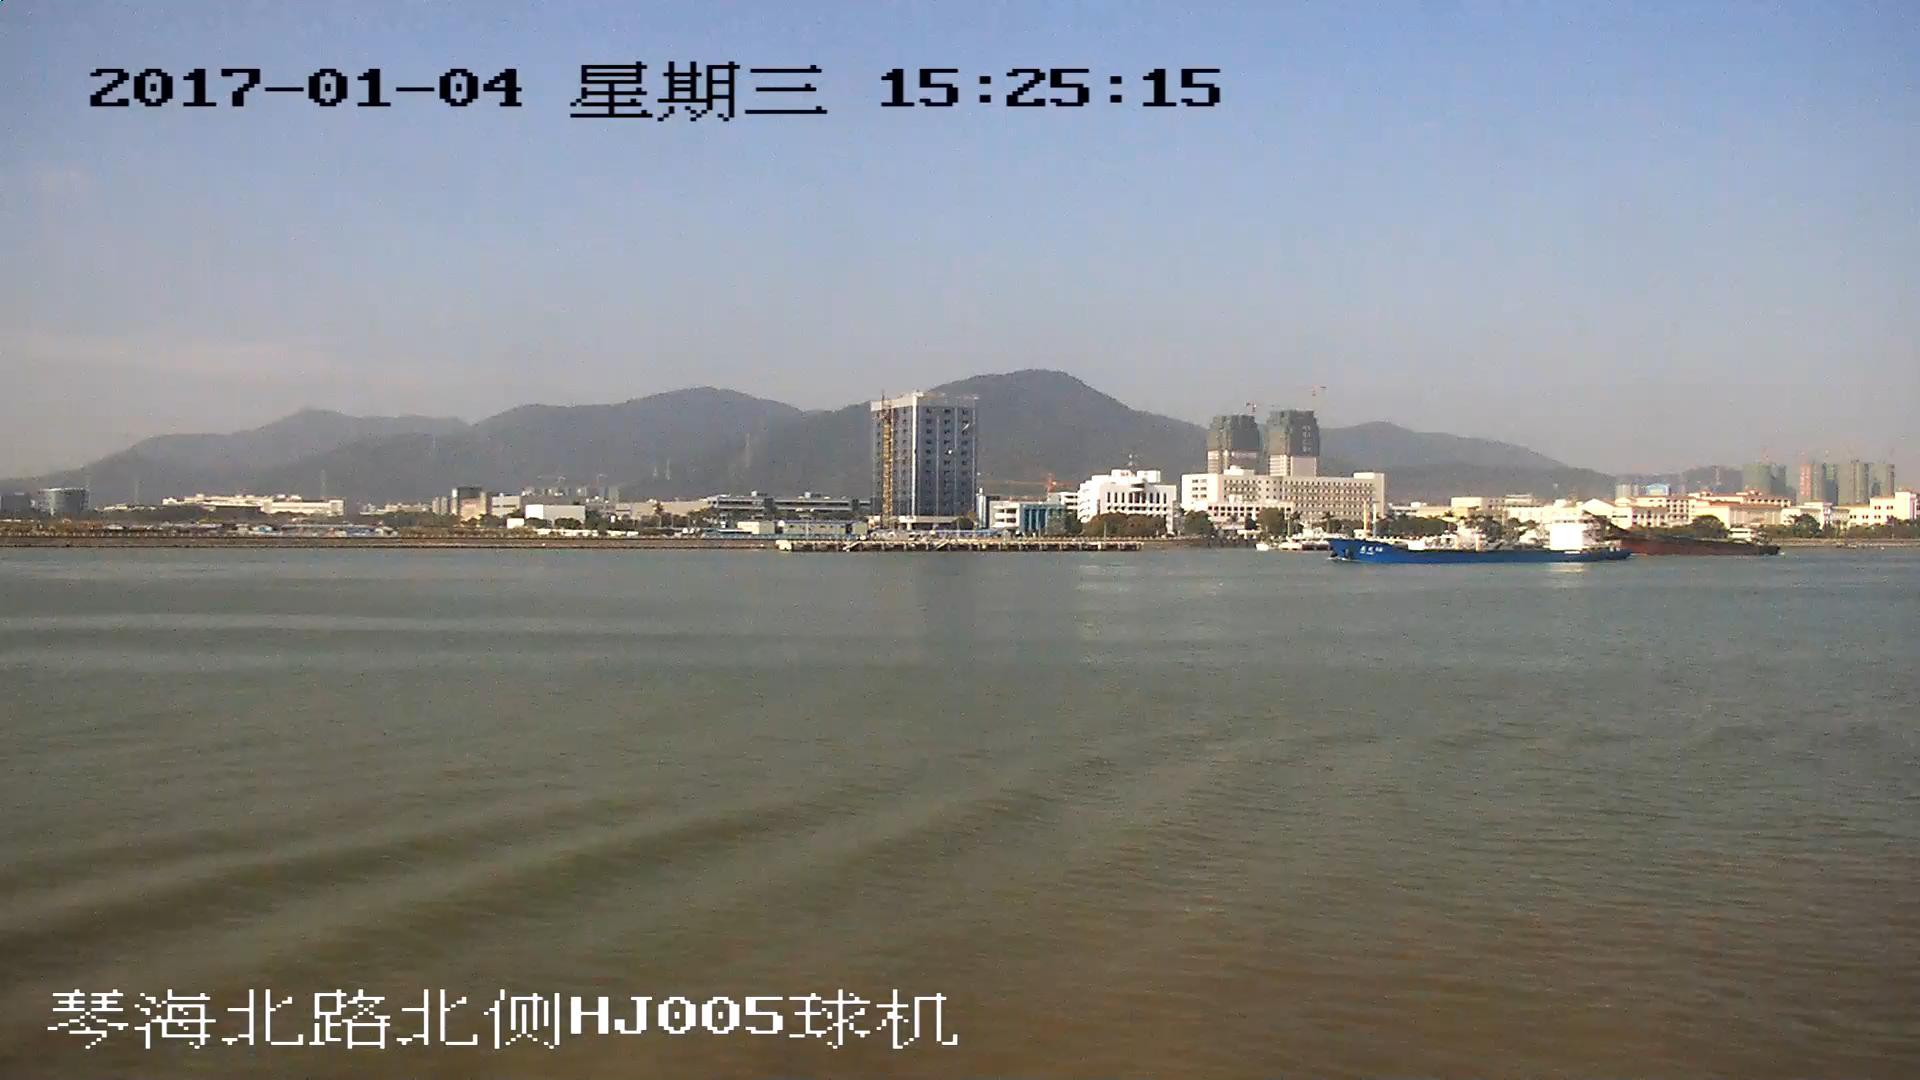general cargo ship: (1336, 504, 1628, 562)
